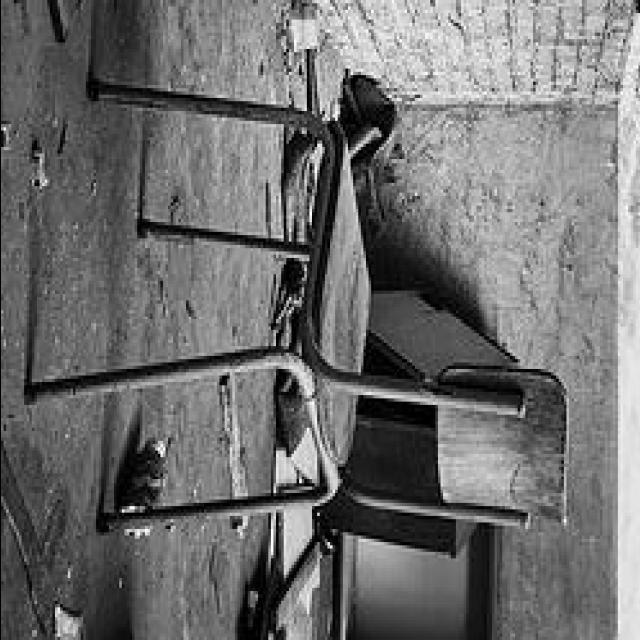chair: (29, 80, 565, 538)
